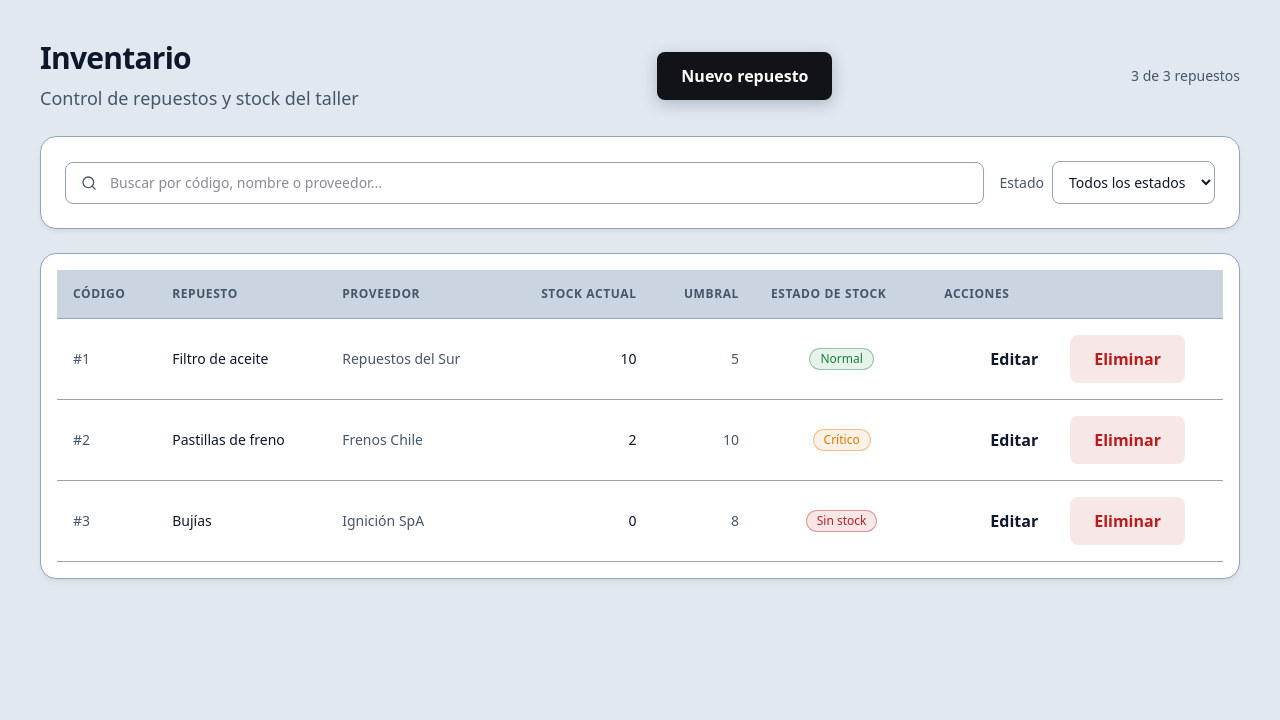
it: AdminInventoryPage: filtros y estado de stock › filtra por estado de stock
Expected: the text "Filtro de aceite" is shown, [156,319,326,400]
Select "Sin stock" in the dropdown named "Filtrar por estado de stock" at (1134, 182), box [1052,161,1215,204]
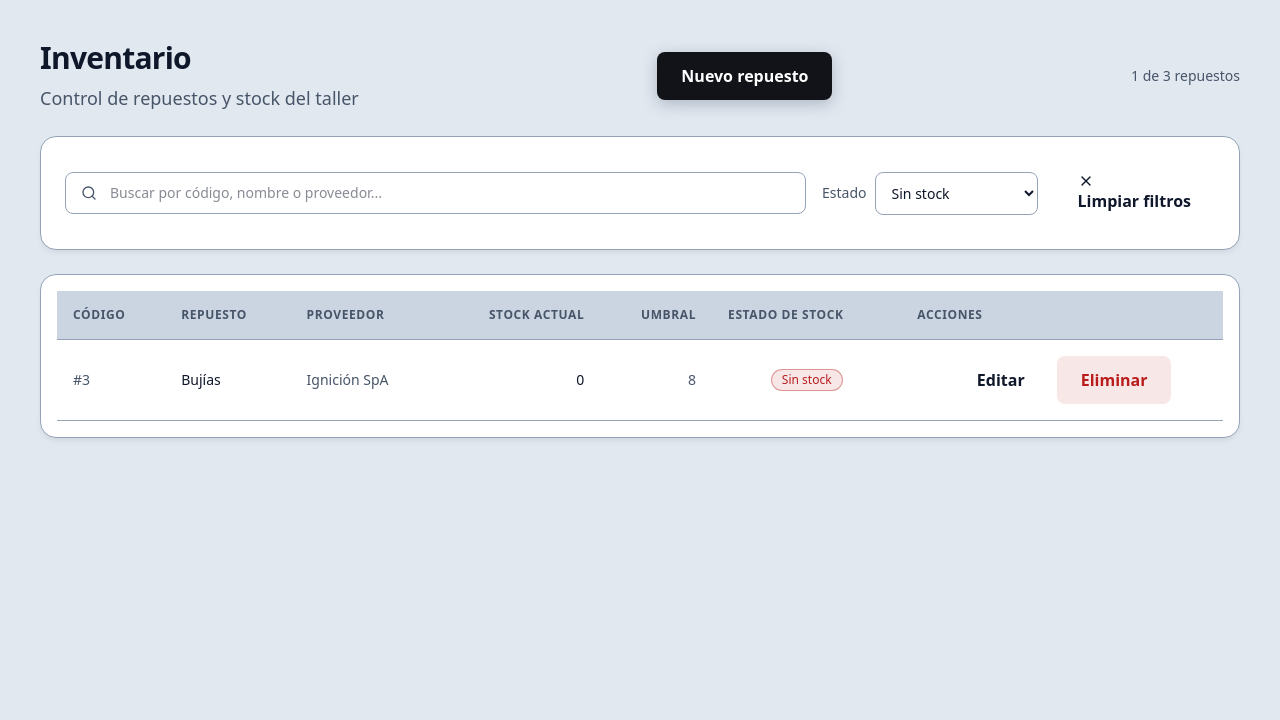
Expected: the text "Bujías" is shown, [165,340,291,420]
Expected: the text "Filtro de aceite" is gone
Expected: the text "Pastillas de freno" is gone
